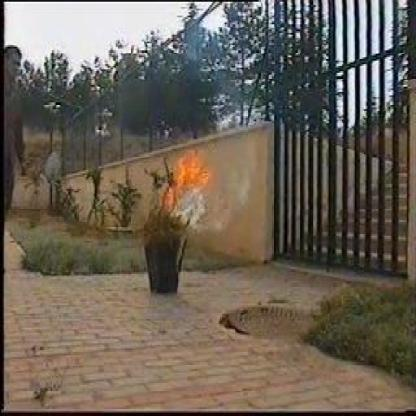-: (176, 192, 230, 233)
foggia-v2-map80-epoch100 - v1 4323: (175, 148, 210, 184)
